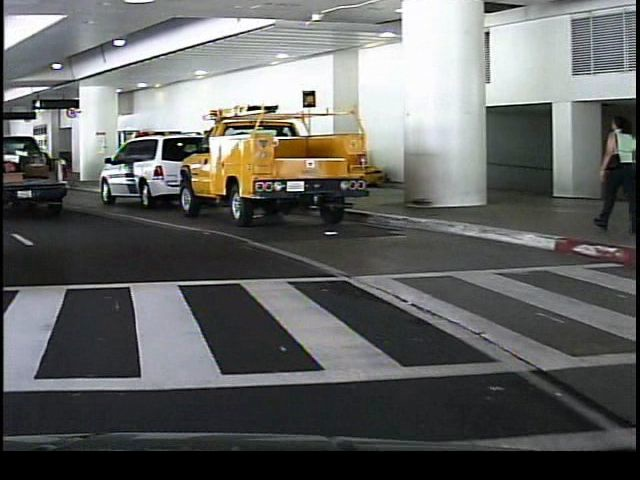person: (589, 109, 637, 237)
